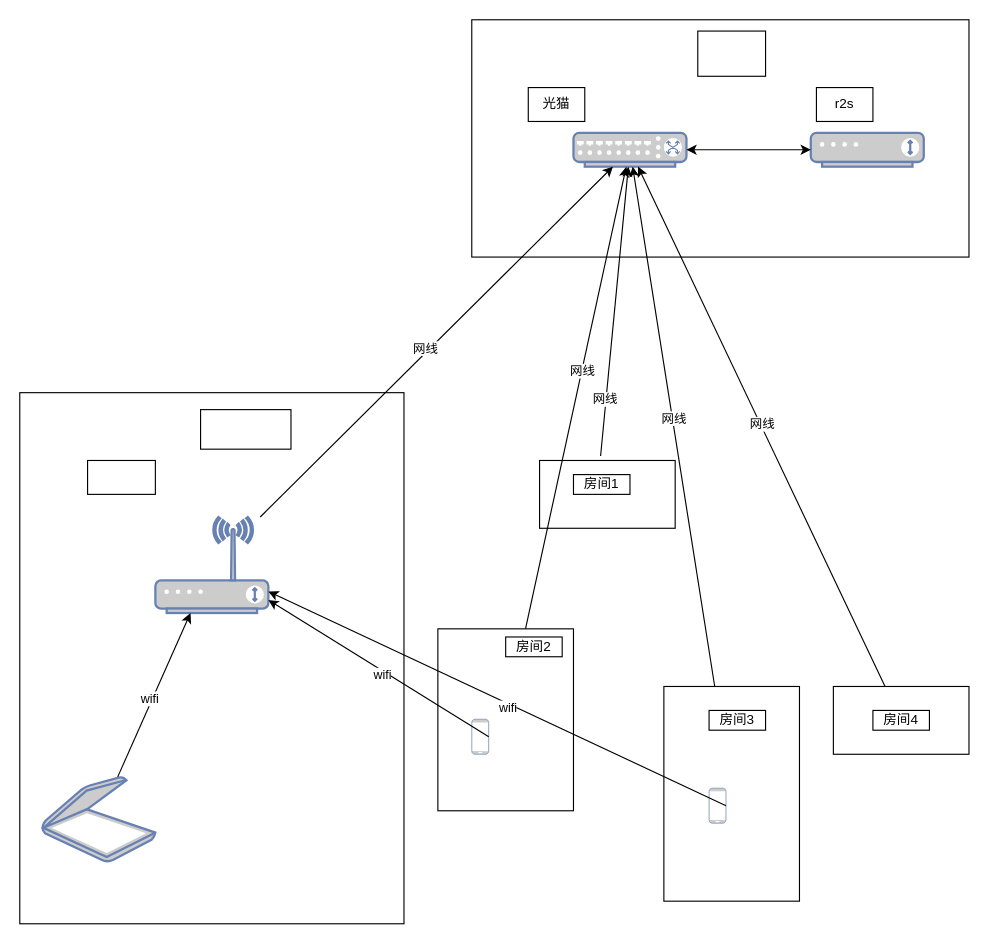
Image size: 989x944. Some labels were removed from this diagram. The shapes that lost their labels are listed below. From the top down, each one's centre as x and y in pixels, then its label:
the point at 731,53: 电信箱子
the point at 245,428: 中间的房间
the point at 120,476: 路由器
